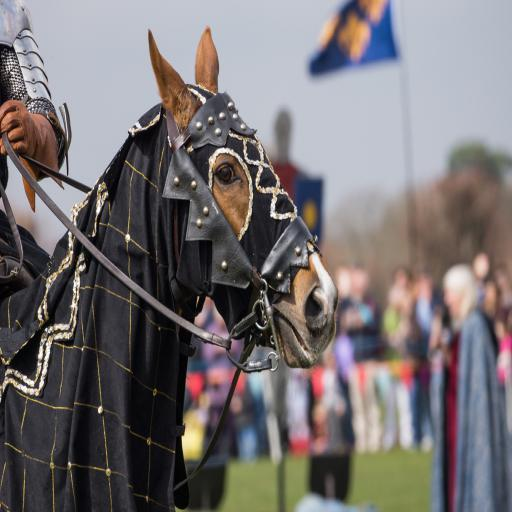horse: (0, 28, 340, 512)
